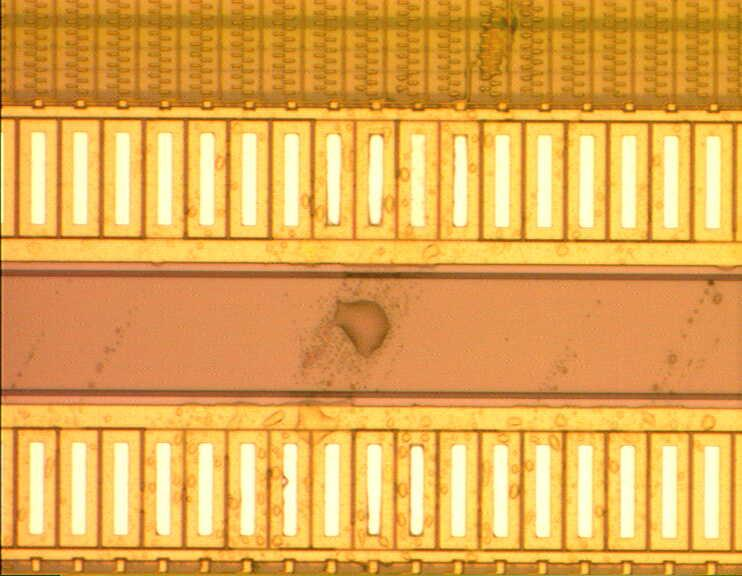PO CONTAMINATION: (1, 1, 740, 576)
